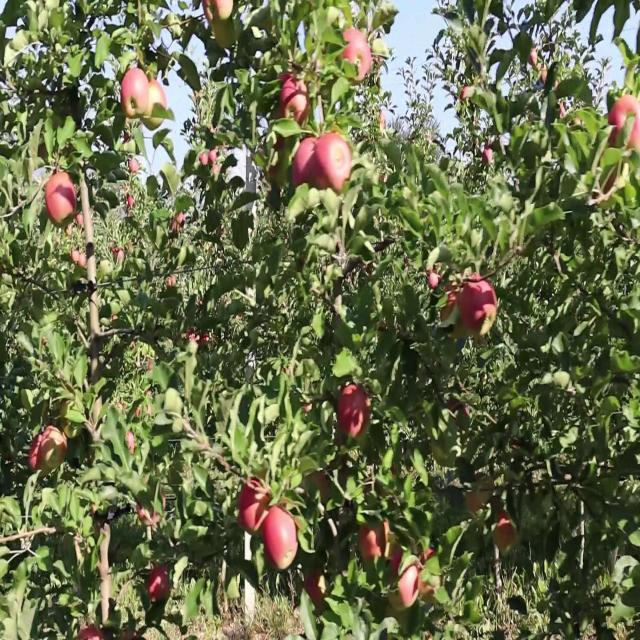apple: (458, 273, 498, 336), (262, 504, 298, 569), (316, 131, 351, 193), (45, 171, 76, 227), (608, 96, 640, 150), (202, 0, 238, 47), (338, 384, 370, 436), (239, 478, 270, 531), (203, 0, 236, 48), (342, 29, 371, 82), (279, 73, 309, 124), (36, 424, 68, 471), (121, 67, 149, 118), (291, 138, 318, 187), (358, 520, 389, 562), (418, 547, 441, 602), (291, 138, 316, 187), (266, 136, 289, 189), (144, 80, 168, 130), (590, 164, 618, 204), (492, 511, 516, 553), (311, 136, 330, 189), (466, 478, 492, 513), (399, 564, 419, 607), (148, 564, 170, 602), (440, 284, 459, 327), (304, 573, 326, 609), (306, 471, 331, 500), (291, 144, 306, 187), (202, 0, 234, 20), (136, 502, 161, 527), (29, 433, 42, 471), (389, 542, 402, 576), (448, 398, 470, 417), (79, 624, 104, 640), (202, 0, 219, 22), (428, 267, 441, 289), (126, 429, 135, 456), (70, 247, 81, 264), (162, 493, 166, 508)
